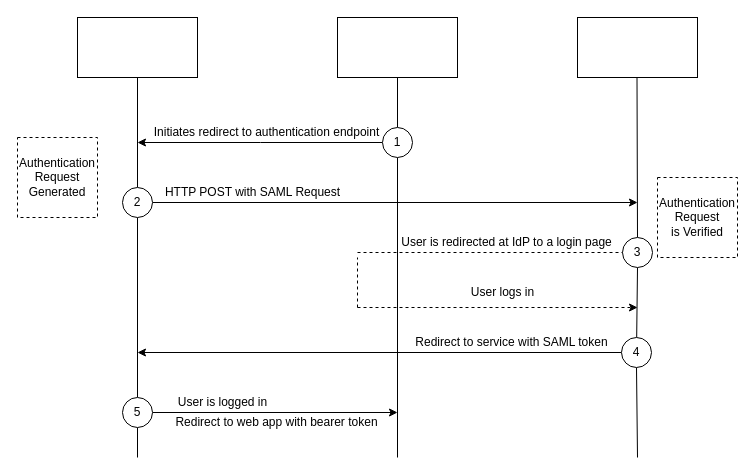
The diagram is 755 pixels wide and 476 high, and some of its shapes have lost their labels. The shapes that lost their labels are listed below. From the top down, each one's centre as x and y in pixels, then its label:
At (x=137, y=47): "Backend".
At (x=397, y=47): "Web App".
At (x=637, y=47): "Identity Provider".
